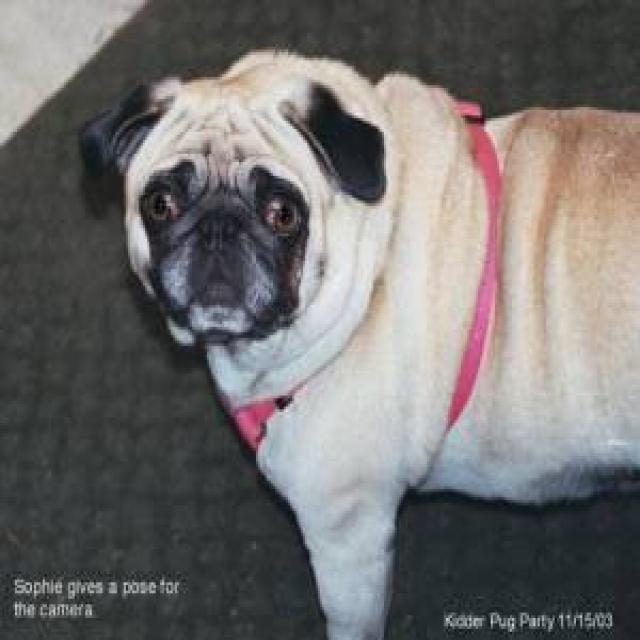dog-pug: (68, 41, 636, 635)
